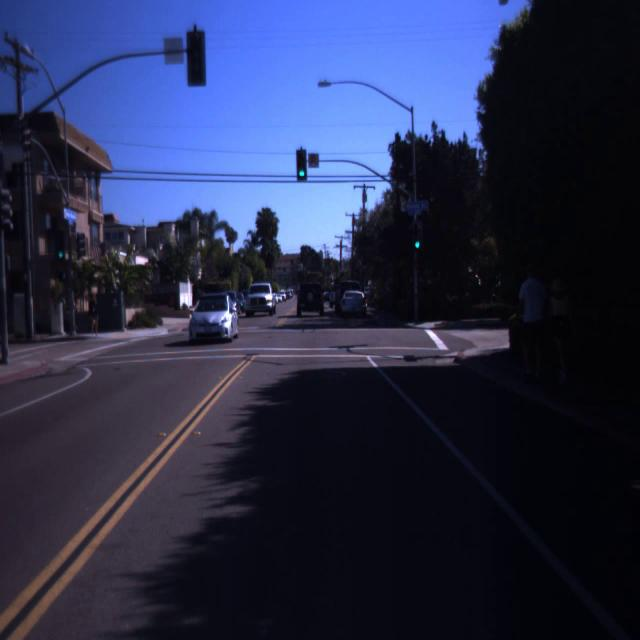go: (59, 254, 63, 258), (300, 172, 304, 175), (416, 243, 419, 247)
go traffic light: (413, 226, 422, 249), (296, 160, 308, 177), (56, 240, 66, 260)
